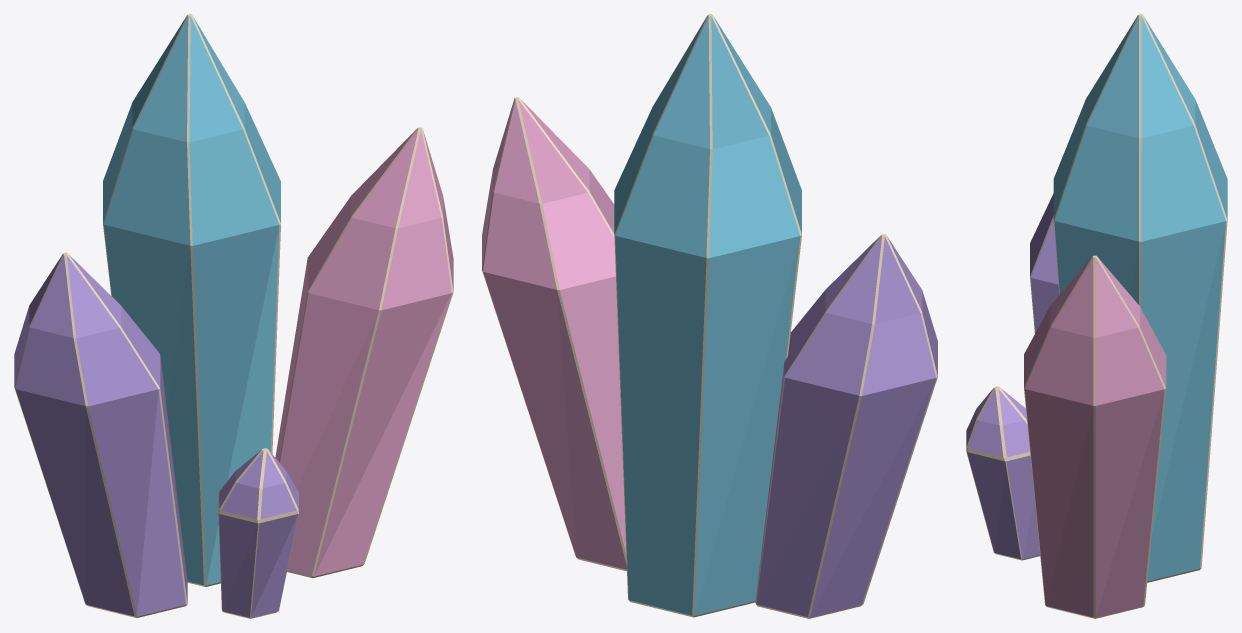
The picture shows the model from 3 angles, left to right: view 1: azimuth 30°, elevation 25°; view 2: azimuth 150°, elevation 25°; view 3: azimuth 270°, elevation 25°; orthographic projection. The views are drawn at different scales.
Visible parts, largest first — view 1: Crystal_Trio_A_Geometry; view 2: Crystal_Trio_A_Geometry; view 3: Crystal_Trio_A_Geometry.
Boxes of the visible parts, x1,y1,x2,y2 form: Crystal_Trio_A_Geometry: (14, 14, 453, 618); Crystal_Trio_A_Geometry: (482, 14, 937, 618); Crystal_Trio_A_Geometry: (966, 14, 1227, 618).
Size of the model in its own units: 1.58 by 1.9 by 0.8439.
